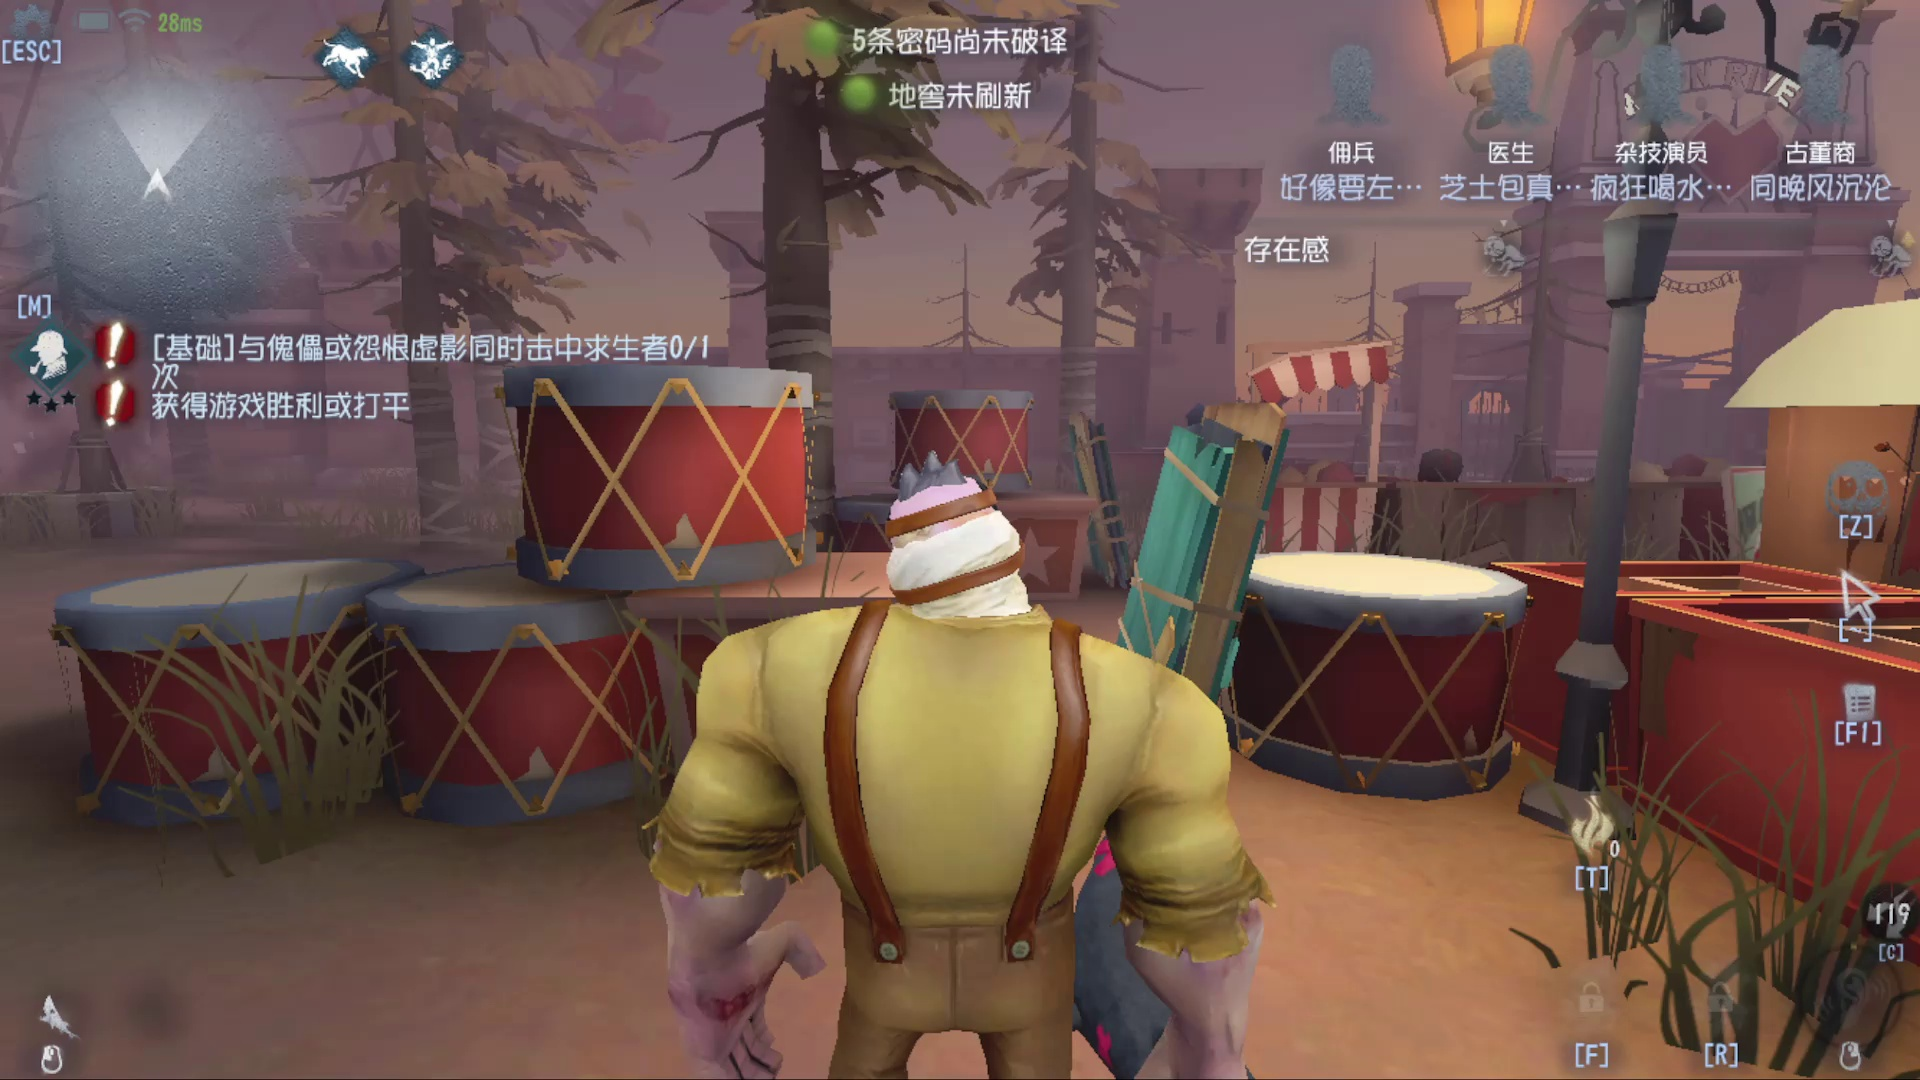木板: (1131, 400, 1284, 749), (1048, 397, 1142, 589)
